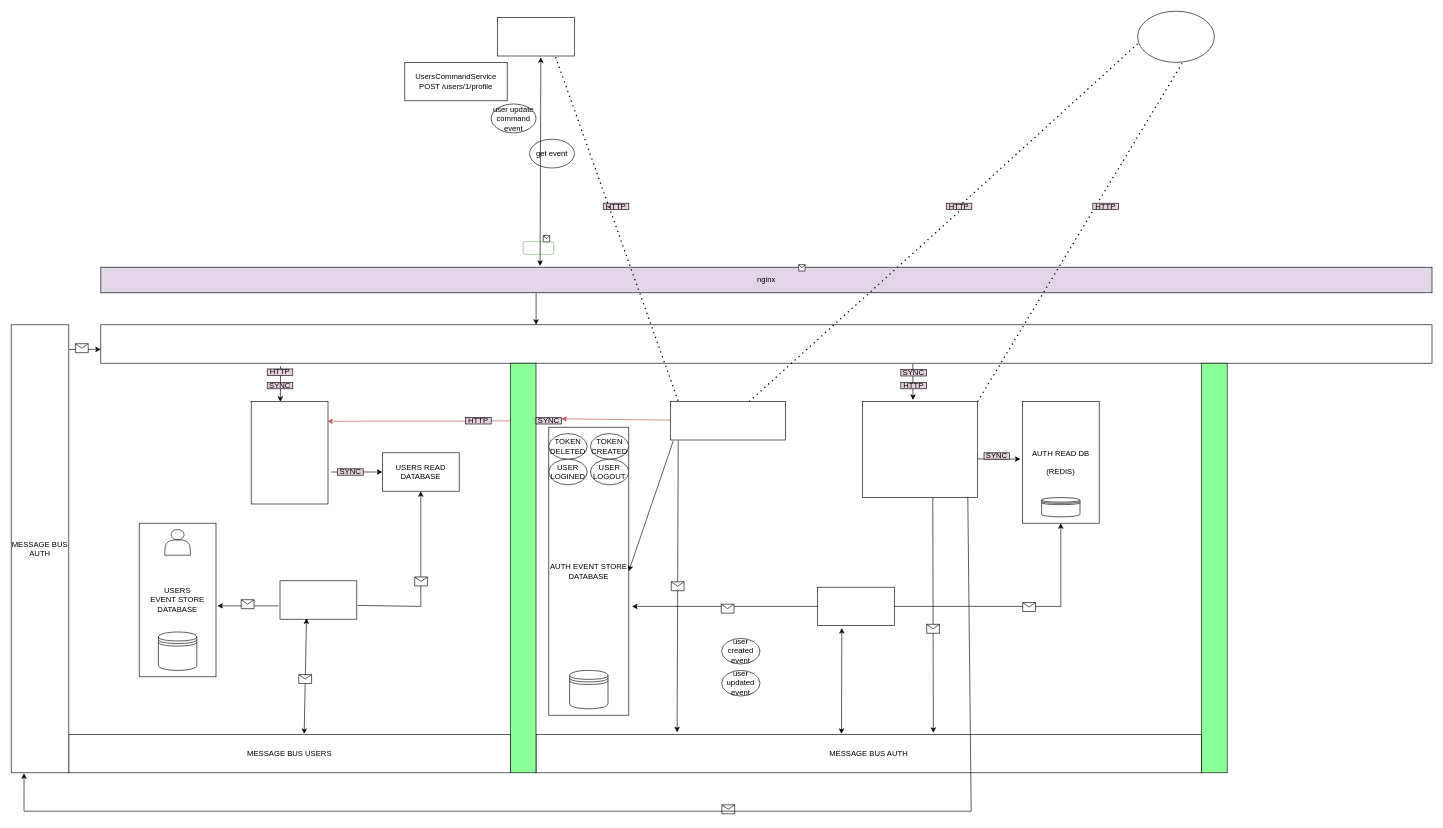
This 1443x828 diagram has some shape labels left out. Here are the shapes that lost their labels. From the top down, the centre of each, then its label:
At point (535, 36): "user web application".
At point (1175, 36): "GOOGLE".
At point (538, 247): "WS".
At point (766, 343): "WS PROXY".
At point (728, 420): "Auth Command Service POST /signin/google POST /Logout".
At point (289, 452): "UsersQuerySERVICE GET /USERS/1".
At point (920, 449): "Auth Query Service GET /google-link".
At point (318, 599): "Users Events Handler".
At point (855, 606): "Auth Events Handler".
